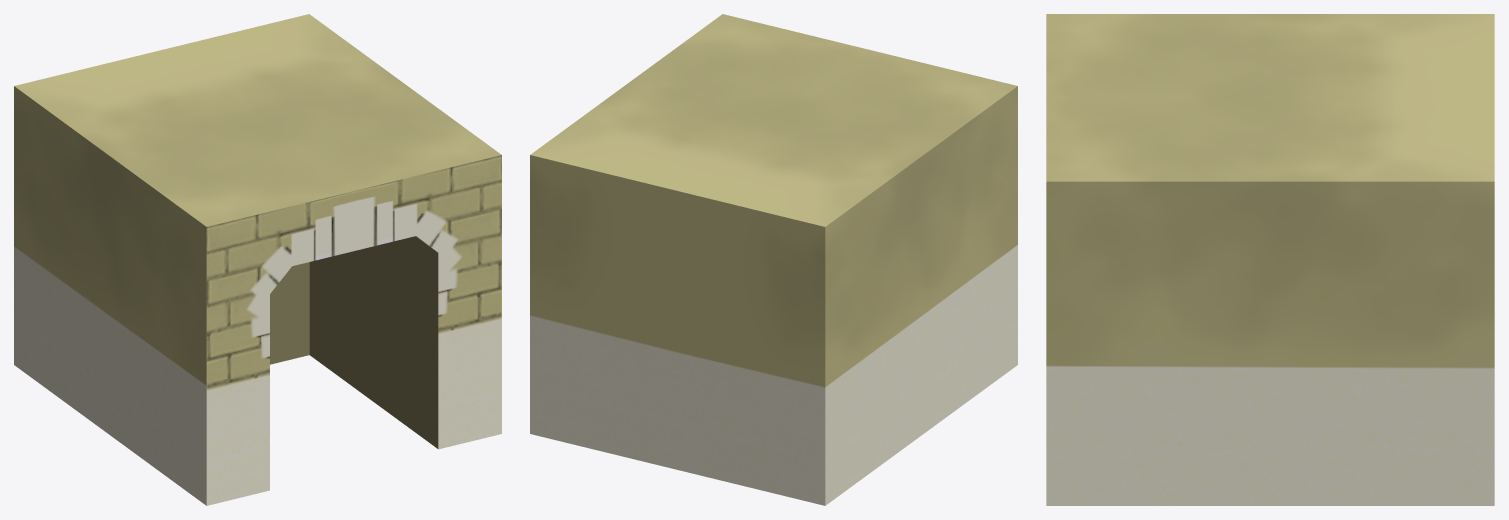
Rendered from PoliceGarage.FBX.
3 renders of one model, left to right at view 1: azimuth 30°, elevation 25°; view 2: azimuth 150°, elevation 25°; view 3: azimuth 270°, elevation 25°, orthographic. The views are drawn at different scales.
Visible parts, largest first — view 1: Eingang; view 2: Eingang; view 3: Eingang.
Part boxes in pixels (x1,y1,x2,y2): Eingang: [14, 14, 501, 505]; Eingang: [530, 14, 1017, 505]; Eingang: [1046, 14, 1494, 505].
Size of the model in its own units: 23.33 by 21.07 by 26.36.
Materials: 1 (1 with a texture image).
